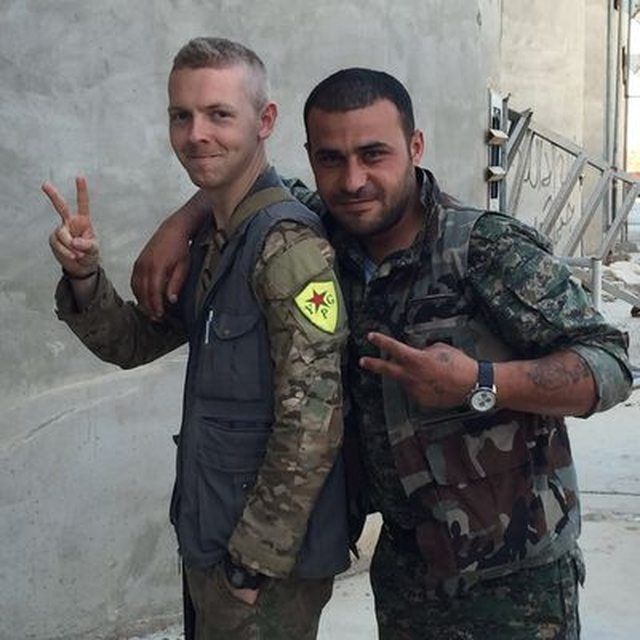YPG: (293, 273, 345, 337)
